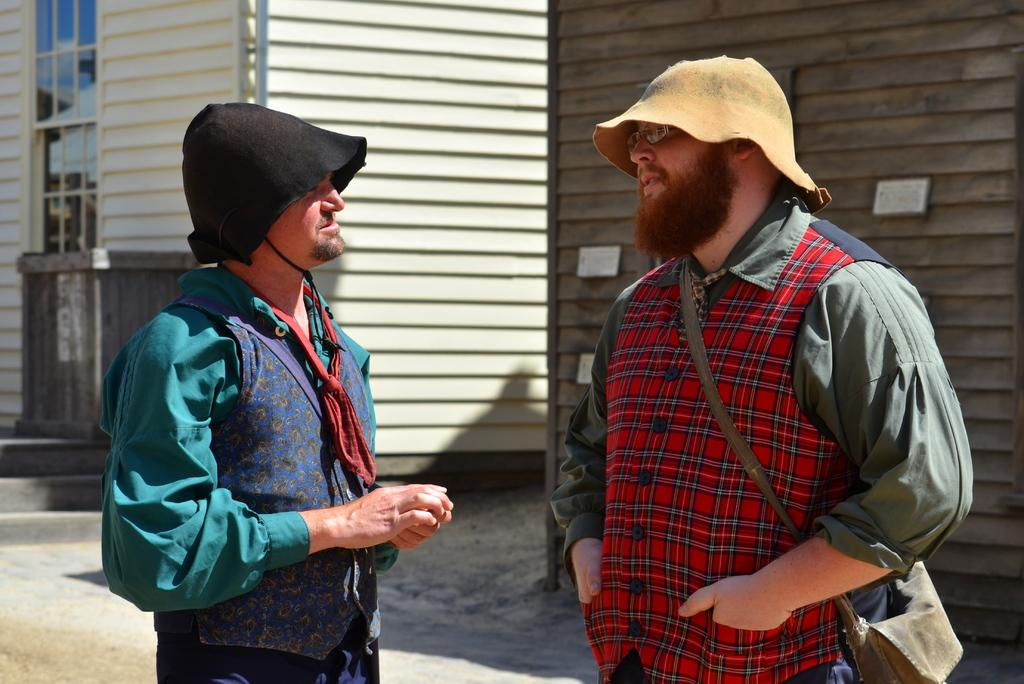Hat: (176, 100, 364, 352), (592, 58, 818, 198)
